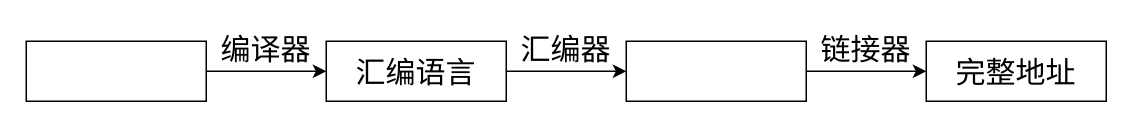
The diagram is 1133 pixels wide and 128 high, and some of its shapes have lost their labels. The shapes that lost their labels are listed below. From the top down, each one's centre as x and y in pixels, then its label:
At point (115, 70): "高级语言".
At point (715, 70): "机器语言".
